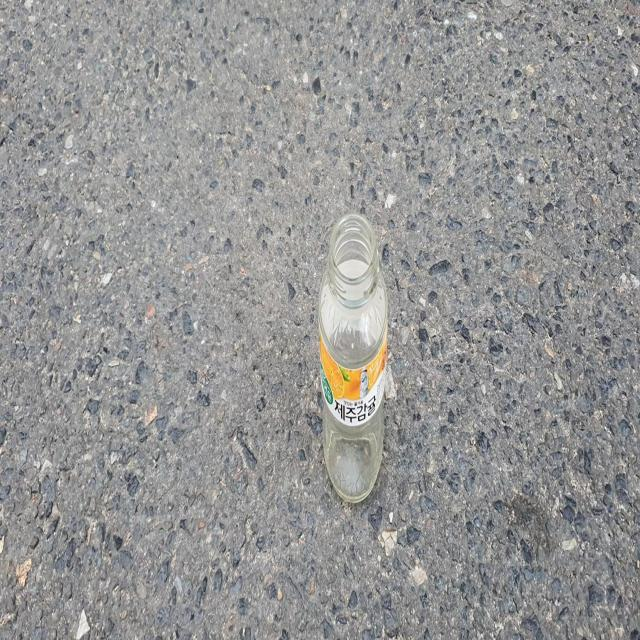glass: (319, 213, 388, 501)
